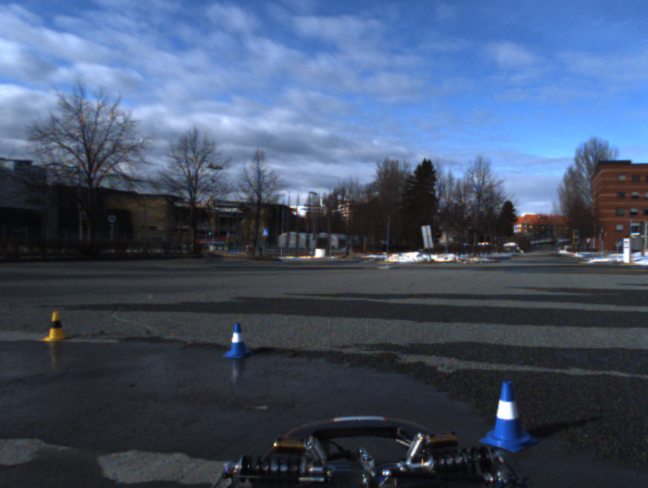cone-small-blue: (478, 380, 538, 452), (222, 322, 254, 358)
cone-small-yellow: (42, 310, 70, 342)
